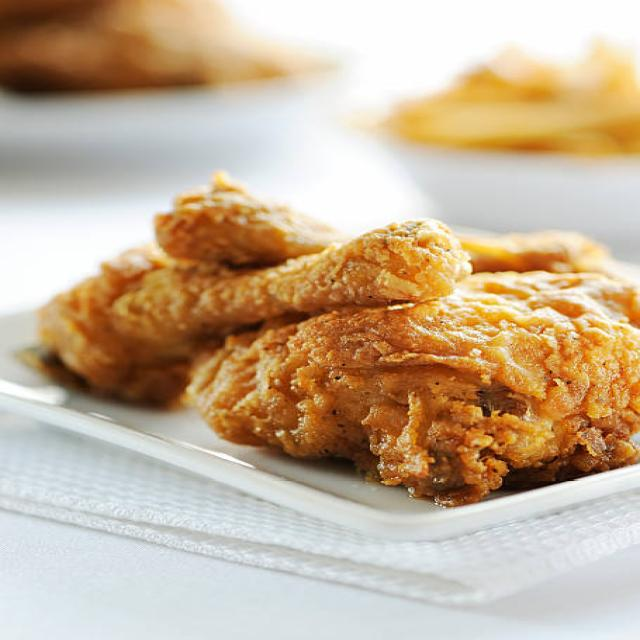Frango: (28, 171, 640, 507)
